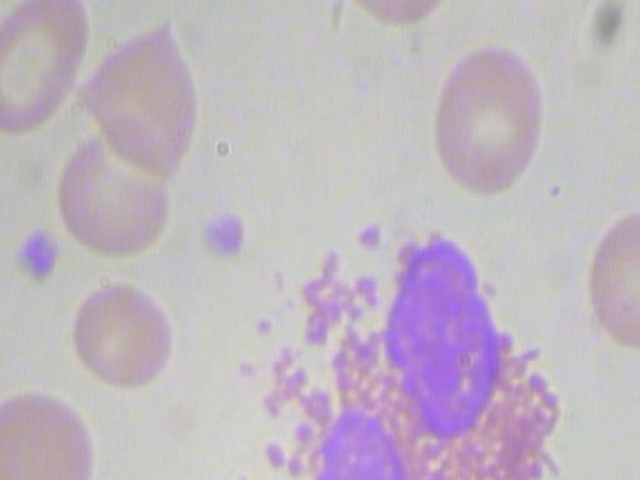Platelets: (10, 223, 69, 287), (192, 206, 250, 261)
RBC: (52, 105, 185, 263), (73, 11, 206, 168), (421, 44, 544, 206), (60, 274, 185, 392), (0, 0, 93, 140), (571, 199, 640, 362), (0, 384, 107, 480), (334, 0, 458, 39)
WBC: (240, 211, 584, 480)
